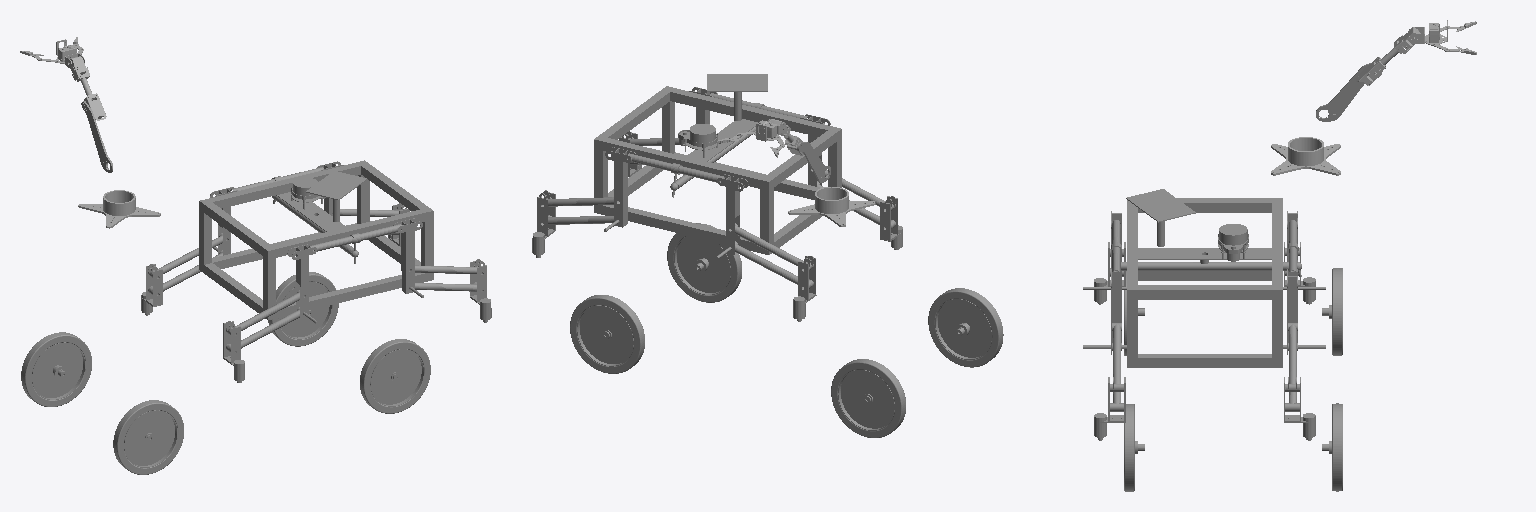
--- What the picture shows (computed from the rendered views, not written in the file) ---
3 views of the same robot in one strip: view 1: azimuth 30°, elevation 25°; view 2: azimuth 150°, elevation 25°; view 3: azimuth 270°, elevation 25° (orthographic).
Robot: agribot_testing_3 — 17 links, 16 joints (10 continuous, 6 fixed); root link base_link; default pose: all joints at 0.
Links seen in each view (by area): view 1: base_link, wheel_attachment_v5_1, wheel_attachment_v5_2, wheel_attachment_v3_1, wheel_attachment_v5_3, base_arm_v2_1, camera_mount_v1_1, link_3_v2_1, link_2_v1_1, ydlidar_x4_v1_1; view 2: base_link, wheel_attachment_v5_3, wheel_attachment_v3_1, wheel_attachment_v5_2, wheel_attachment_v5_1, base_arm_v2_1, camera_mount_v1_1, ydlidar_x4_v1_1, link_2_v1_1; view 3: base_link, base_arm_v2_1, camera_mount_v1_1, wheel_attachment_v5_2, wheel_attachment_v5_3, wheel_attachment_v5_1, ydlidar_x4_v1_1, link_3_v2_1, link_2_v1_1.
Boxes of the visible links, x1=… form: base_link: x1=141, y1=160, x2=491, y2=382; wheel_attachment_v5_1: x1=360, y1=339, x2=430, y2=413; wheel_attachment_v5_2: x1=21, y1=332, x2=91, y2=406; wheel_attachment_v3_1: x1=113, y1=400, x2=183, y2=474; wheel_attachment_v5_3: x1=268, y1=272, x2=338, y2=346; base_arm_v2_1: x1=78, y1=190, x2=160, y2=228; camera_mount_v1_1: x1=306, y1=171, x2=366, y2=221; link_3_v2_1: x1=69, y1=56, x2=106, y2=120; link_2_v1_1: x1=81, y1=101, x2=112, y2=172; ydlidar_x4_v1_1: x1=291, y1=177, x2=325, y2=209; base_link: x1=532, y1=86, x2=902, y2=321; wheel_attachment_v5_3: x1=570, y1=295, x2=644, y2=373; wheel_attachment_v3_1: x1=928, y1=288, x2=1003, y2=367; wheel_attachment_v5_2: x1=831, y1=359, x2=905, y2=437; wheel_attachment_v5_1: x1=667, y1=223, x2=741, y2=302; base_arm_v2_1: x1=788, y1=187, x2=875, y2=226; camera_mount_v1_1: x1=707, y1=74, x2=767, y2=120; ydlidar_x4_v1_1: x1=678, y1=124, x2=717, y2=157; link_2_v1_1: x1=797, y1=142, x2=830, y2=182; base_link: x1=1083, y1=198, x2=1325, y2=440; base_arm_v2_1: x1=1271, y1=137, x2=1340, y2=175; camera_mount_v1_1: x1=1126, y1=189, x2=1195, y2=246; wheel_attachment_v5_2: x1=1322, y1=268, x2=1342, y2=355; wheel_attachment_v5_3: x1=1322, y1=403, x2=1342, y2=491; wheel_attachment_v5_1: x1=1124, y1=404, x2=1144, y2=491; ydlidar_x4_v1_1: x1=1218, y1=224, x2=1248, y2=261; link_3_v2_1: x1=1356, y1=27, x2=1420, y2=85; link_2_v1_1: x1=1316, y1=63, x2=1370, y2=121.
Size in the robot's own frame: 1.1 by 0.9074 by 0.9141 metres.
13 mesh visuals loaded from 15 distinct referenced files (13 binary STL); not drawn: 2 (reference not matched to a file when rendering).

URDF robot description (agribot_testing_3):
<?xml version="1.0" ?>
<!-- =================================================================================== -->
<!-- |    This document was autogenerated by xacro from [local-path]/agribot_ws/src/Agribot_V2/agribot_testing_3_description/urdf/agribot_testing_3.xacro | -->
<!-- |    EDITING THIS FILE BY HAND IS NOT RECOMMENDED                                 | -->
<!-- =================================================================================== -->
<robot name="agribot_testing_3">
    <material name="silver_default">
        <color rgba="0.700 0.700 0.700 1.000" />
    </material>
    <material name="steel_satin">
        <color rgba="0.6274509803921569 0.6274509803921569 0.6274509803921569 1.0" />
    </material>
    <material name="opaque636363">
        <color rgba="0.25098039215686274 0.25098039215686274 0.25098039215686274 1.0" />
    </material>
    <transmission name="back_right_tran">
        <type>transmission_interface/SimpleTransmission</type>
        <joint name="back_right">
            <hardwareInterface>hardware_interface/EffortJointInterface</hardwareInterface>
        </joint>
        <actuator name="back_right_actr">
            <hardwareInterface>hardware_interface/EffortJointInterface</hardwareInterface>
            <mechanicalReduction>1</mechanicalReduction>
        </actuator>
    </transmission>
    <transmission name="front_right_tran">
        <type>transmission_interface/SimpleTransmission</type>
        <joint name="front_right">
            <hardwareInterface>hardware_interface/EffortJointInterface</hardwareInterface>
        </joint>
        <actuator name="front_right_actr">
            <hardwareInterface>hardware_interface/EffortJointInterface</hardwareInterface>
            <mechanicalReduction>1</mechanicalReduction>
        </actuator>
    </transmission>
    <transmission name="back_left_tran">
        <type>transmission_interface/SimpleTransmission</type>
        <joint name="back_left">
            <hardwareInterface>hardware_interface/EffortJointInterface</hardwareInterface>
        </joint>
        <actuator name="back_left_actr">
            <hardwareInterface>hardware_interface/EffortJointInterface</hardwareInterface>
            <mechanicalReduction>1</mechanicalReduction>
        </actuator>
    </transmission>
    <transmission name="front_left_tran">
        <type>transmission_interface/SimpleTransmission</type>
        <joint name="front_left">
            <hardwareInterface>hardware_interface/EffortJointInterface</hardwareInterface>
        </joint>
        <actuator name="front_left_actr">
            <hardwareInterface>hardware_interface/EffortJointInterface</hardwareInterface>
            <mechanicalReduction>1</mechanicalReduction>
        </actuator>
    </transmission>
    <transmission name="base_twist_tran">
        <type>transmission_interface/SimpleTransmission</type>
        <joint name="base_twist">
            <hardwareInterface>hardware_interface/PositionJointInterface</hardwareInterface>
        </joint>
        <actuator name="base_twist_actr">
            <hardwareInterface>hardware_interface/PositionJointInterface</hardwareInterface>
            <mechanicalReduction>1</mechanicalReduction>
        </actuator>
    </transmission>
    <transmission name="shoulder_tran">
        <type>transmission_interface/SimpleTransmission</type>
        <joint name="shoulder">
            <hardwareInterface>hardware_interface/PositionJointInterface</hardwareInterface>
        </joint>
        <actuator name="shoulder_actr">
            <hardwareInterface>hardware_interface/PositionJointInterface</hardwareInterface>
            <mechanicalReduction>1</mechanicalReduction>
        </actuator>
    </transmission>
    <transmission name="elbow_tran">
        <type>transmission_interface/SimpleTransmission</type>
        <joint name="elbow">
            <hardwareInterface>hardware_interface/PositionJointInterface</hardwareInterface>
        </joint>
        <actuator name="elbow_actr">
            <hardwareInterface>hardware_interface/PositionJointInterface</hardwareInterface>
            <mechanicalReduction>1</mechanicalReduction>
        </actuator>
    </transmission>
    <transmission name="wrist_tran">
        <type>transmission_interface/SimpleTransmission</type>
        <joint name="wrist">
            <hardwareInterface>hardware_interface/PositionJointInterface</hardwareInterface>
        </joint>
        <actuator name="wrist_actr">
            <hardwareInterface>hardware_interface/PositionJointInterface</hardwareInterface>
            <mechanicalReduction>1</mechanicalReduction>
        </actuator>
    </transmission>
    <transmission name="left_grip_tran">
        <type>transmission_interface/SimpleTransmission</type>
        <joint name="left_grip">
            <hardwareInterface>hardware_interface/PositionJointInterface</hardwareInterface>
        </joint>
        <actuator name="left_grip_actr">
            <hardwareInterface>hardware_interface/PositionJointInterface</hardwareInterface>
            <mechanicalReduction>1</mechanicalReduction>
        </actuator>
    </transmission>
    <transmission name="right_grip_tran">
        <type>transmission_interface/SimpleTransmission</type>
        <joint name="right_grip">
            <hardwareInterface>hardware_interface/PositionJointInterface</hardwareInterface>
        </joint>
        <actuator name="right_grip_actr">
            <hardwareInterface>hardware_interface/PositionJointInterface</hardwareInterface>
            <mechanicalReduction>1</mechanicalReduction>
        </actuator>
    </transmission>
  
    <gazebo>
    <plugin name="control" filename="libgazebo_ros_control.so"/>
    </gazebo>

    <gazebo reference="base_link">
        <material>Gazebo/Silver</material>
        <mu1>0.2</mu1>
        <mu2>0.2</mu2>
        <selfCollide>true</selfCollide>
        <gravity>true</gravity>
    </gazebo>
    <gazebo reference="wheel_attachment_v3_1">
        <material>Gazebo/Silver</material>
        <mu1>100</mu1>
        <mu2>100</mu2>
        <selfCollide>true</selfCollide>
    </gazebo>
    <gazebo reference="wheel_attachment_v5_1">
        <material>Gazebo/Silver</material>
        <mu1>100</mu1>
        <mu2>100</mu2>
        <selfCollide>true</selfCollide>
    </gazebo>
    <gazebo reference="wheel_attachment_v5_2">
        <material>Gazebo/Silver</material>
        <mu1>100</mu1>
        <mu2>100</mu2>
        <selfCollide>true</selfCollide>
    </gazebo>
    <gazebo reference="wheel_attachment_v5_3">
        <material>Gazebo/Silver</material>
        <mu1>100</mu1>
        <mu2>100</mu2>
        <selfCollide>true</selfCollide>
    </gazebo>
    <gazebo reference="ydlidar_x4_v1_1">
        <material>Gazebo/Silver</material>
        <mu1>0.2</mu1>
        <mu2>0.2</mu2>
        <selfCollide>true</selfCollide>
    </gazebo>
    <gazebo reference="camera_mount_v1_1">
        <material>Gazebo/Silver</material>
        <mu1>0.2</mu1>
        <mu2>0.2</mu2>
        <selfCollide>true</selfCollide>
    </gazebo>
    <gazebo reference="kinectv2_v1_1">
        <material>Gazebo/Silver</material>
        <mu1>0.2</mu1>
        <mu2>0.2</mu2>
        <selfCollide>true</selfCollide>
    </gazebo>
    <gazebo reference="rgb_frame" />
    <gazebo reference="base_arm_v2_1">
        <material>Gazebo/Silver</material>
        <mu1>0.2</mu1>
        <mu2>0.2</mu2>
        <selfCollide>true</selfCollide>
    </gazebo>
    <gazebo reference="link_1_v3_1">
        <material>Gazebo/Silver</material>
        <mu1>0.2</mu1>
        <mu2>0.2</mu2>
        <selfCollide>true</selfCollide>
    </gazebo>
    <gazebo reference="link_2_v1_1">
        <material>Gazebo/Silver</material>
        <mu1>0.2</mu1>
        <mu2>0.2</mu2>
        <selfCollide>true</selfCollide>
    </gazebo>
    <gazebo reference="link_3_v2_1">
        <material>Gazebo/Silver</material>
        <mu1>0.2</mu1>
        <mu2>0.2</mu2>
        <selfCollide>true</selfCollide>
    </gazebo>
    <gazebo reference="eef_base_v1_1">
        <material>Gazebo/Silver</material>
        <mu1>0.2</mu1>
        <mu2>0.2</mu2>
        <selfCollide>true</selfCollide>
    </gazebo>
    <gazebo reference="left_claw_v3_1">
        <material>Gazebo/Silver</material>
        <mu1>0.2</mu1>
        <mu2>0.2</mu2>
        <selfCollide>true</selfCollide>
    </gazebo>
    <gazebo reference="right_claw_v3_1">
        <material>Gazebo/Silver</material>
        <mu1>0.2</mu1>
        <mu2>0.2</mu2>
        <selfCollide>true</selfCollide>
    </gazebo>
    <!-- Lidar -->
    <gazebo reference="ydlidar_x4_v1_1">
        <sensor name="head_hokuyo_sensor" type="ray">
            <pose>0 0 0 0 0 0</pose>
            <visualize>false</visualize>
            <update_rate>40</update_rate>
            <ray>
                <scan>
                    <horizontal>
                        <samples>720</samples>
                        <resolution>1</resolution>
                        <min_angle>-3.1416</min_angle>
                        <max_angle>3.1416</max_angle>
                    </horizontal>
                </scan>
                <range>
                    <min>0.10</min>
                    <max>8.0</max>
                    <resolution>0.01</resolution>
                </range>
                <noise>
                    <type>gaussian</type>
                    <!-- Noise parameters based on published spec for Hokuyo laser
              achieving "+-30mm" accuracy at range < 10m.  A mean of 0.0m and
              stddev of 0.01m will put 99.7% of samples within 0.03m of the true
              reading. -->
                    <mean>0.0</mean>
                    <stddev>0.01</stddev>
                </noise>
            </ray>
            <plugin filename="libgazebo_ros_laser.so" name="gazebo_ros_head_hokuyo_controller">
                <topicName>/scan</topicName>
                <frameName>ydlidar_x4_v1_1</frameName>
            </plugin>
        </sensor>
    </gazebo>
    <!-- Kinect -->
    <gazebo reference="rgb_frame">
        <sensor name="kinectv2_camera" type="depth">
            <update_rate>20</update_rate>
            <camera>
                <horizontal_fov>1.5708</horizontal_fov>
                <image>
                    <width>1920</width>
                    <height>1080</height>
                    <format>R8G8B8</format>
                </image>
                <clip>
                    <near>0.5</near>
                    <far>4.5</far>
                </clip>
            </camera>
            <plugin filename="libgazebo_ros_openni_kinect.so" name="kinectv2_controller">
                <baseline>0.2</baseline>
                <alwaysOn>true</alwaysOn>
                <updateRate>1.0</updateRate>
                <cameraName>kinectv2_ir</cameraName>
                <imageTopicName>/kinectv2/color/image_raw</imageTopicName>
                <cameraInfoTopicName>/kinectv2/color/camera_info</cameraInfoTopicName>
                <depthImageTopicName>/kinectv2/depth/image_raw</depthImageTopicName>
                <depthImageInfoTopicName>/kinectv2/depth/camera_info</depthImageInfoTopicName>
                <pointCloudTopicName>/kinectv2/depth/points</pointCloudTopicName>
                <frameName>optical_frame</frameName>
                <pointCloudCutoff>0.5</pointCloudCutoff>
                <pointCloudCutoffMax>4.5</pointCloudCutoffMax>

                <!-- The following are values taken from calibration matrix
                and distortion matrix of a real Xbox KinectV2 -->
                
                <distortionK1>0.0418</distortionK1>
                <distortionK2>2.4255</distortionK2>
                <distortionK3>-27.81</distortionK3>
                <distortionT1>0.004395</distortionT1>
                <distortionT2>0.0069</distortionT2>            
                <CxPrime>0</CxPrime>
                <Cx>316</Cx>
                <Cy>256</Cy>
                <focalLength>910</focalLength>
                <hackBaseline>0</hackBaseline>
            </plugin>
        </sensor>
    </gazebo>
    <!-- Skid steering -->
    <gazebo>
        <plugin filename="libgazebo_ros_skid_steer_drive.so" name="skid_steer_drive_controller">
            <updateRate>100.0</updateRate>
            <robotNamespace>/</robotNamespace>
            <leftFrontJoint>front_left</leftFrontJoint>
            <rightFrontJoint>front_right</rightFrontJoint>
            <leftRearJoint>back_left</leftRearJoint>
            <rightRearJoint>back_right</rightRearJoint>
            <wheelSeparation>0.48</wheelSeparation>
            <wheelDiameter>0.2032</wheelDiameter>
            <robotBaseFrame>base_link</robotBaseFrame>
            <torque>20</torque>
            <topicName>cmd_vel</topicName>
            <broadcastTF>true</broadcastTF>
        </plugin>
    </gazebo>
    <link name="base_link">
        <inertial>
            <origin rpy="0 0 0" xyz="-0.2350880604034247 0.06665534217761437 0.38865777567238247" />
            <mass value="33.861613005474375" />
            <inertia ixx="1.628198" ixy="-0.000154" ixz="-0.003471" iyy="2.74751" iyz="-0.001994" izz="3.065301" />
        </inertial>
        <visual>
            <origin rpy="0 0 0" xyz="0 0 0" />
            <geometry>
                <mesh filename="package://agribot_testing_3_description/meshes/base_link.stl" scale="0.001 0.001 0.001" />
            </geometry>
            <material name="steel_satin" />
        </visual>
        <collision>
            <origin rpy="0 0 0" xyz="0 0 0" />
            <geometry>
                <mesh filename="package://agribot_testing_3_description/meshes/base_link.stl" scale="0.001 0.001 0.001" />
            </geometry>
        </collision>
    </link>
    <link name="wheel_attachment_v3_1">
        <inertial>
            <origin rpy="0 0 0" xyz="3.8128879042975683e-07 -0.019174361968348846 -3.4326326046885125e-07" />
            <mass value="2.8820189071853717" />
            <inertia ixx="0.010501" ixy="0.0" ixz="0.0" iyy="0.020705" iyz="-0.0" izz="0.010501" />
        </inertial>
        <visual>
            <origin rpy="0 0 0" xyz="0.607089 0.154579 -0.098627" />
            <geometry>
                <mesh filename="package://agribot_testing_3_description/meshes/wheel_attachment_v3_1.stl" scale="0.001 0.001 0.001" />
            </geometry>
            <material name="steel_satin" />
        </visual>
        <collision>
            <origin rpy="0 0 0" xyz="0.607089 0.154579 -0.098627" />
            <geometry>
                <mesh filename="package://agribot_testing_3_description/meshes/wheel_attachment_v3_1.stl" scale="0.001 0.001 0.001" />
            </geometry>
        </collision>
    </link>
    <link name="wheel_attachment_v5_1">
        <inertial>
            <origin rpy="0 0 0" xyz="-3.348505955291792e-07 -0.019183612949765505 3.8027774791615787e-07" />
            <mass value="2.8568879657816306" />
            <inertia ixx="0.0105" ixy="0.0" ixz="-0.0" iyy="0.020703" iyz="-0.0" izz="0.0105" />
        </inertial>
        <visual>
            <origin rpy="0 0 0" xyz="-0.137665 0.154179 -0.1016" />
            <geometry>
                <mesh filename="package://agribot_testing_3_description/meshes/wheel_attachment_v5_1.stl" scale="0.001 0.001 0.001" />
            </geometry>
            <material name="steel_satin" />
        </visual>
        <collision>
            <origin rpy="0 0 0" xyz="-0.137665 0.154179 -0.1016" />
            <geometry>
                <mesh filename="package://agribot_testing_3_description/meshes/wheel_attachment_v5_1.stl" scale="0.001 0.001 0.001" />
            </geometry>
        </collision>
    </link>
    <link name="wheel_attachment_v5_2">
        <inertial>
            <origin rpy="0 0 0" xyz="-4.557887117728754e-07 0.019183971880570305 1.354506786177545e-07" />
            <mass value="2.8568879657816306" />
            <inertia ixx="0.0105" ixy="0.0" ixz="0.0" iyy="0.020703" iyz="-0.0" izz="0.0105" />
        </inertial>
        <visual>
            <origin rpy="0 0 0" xyz="0.607599 -0.287008 -0.100014" />
            <geometry>
                <mesh filename="package://agribot_testing_3_description/meshes/wheel_attachment_v5_2.stl" scale="0.001 0.001 0.001" />
            </geometry>
            <material name="steel_satin" />
        </visual>
        <collision>
            <origin rpy="0 0 0" xyz="0.607599 -0.287008 -0.100014" />
            <geometry>
                <mesh filename="package://agribot_testing_3_description/meshes/wheel_attachment_v5_2.stl" scale="0.001 0.001 0.001" />
            </geometry>
        </collision>
    </link>
    <link name="wheel_attachment_v5_3">
        <inertial>
            <origin rpy="0 0 0" xyz="3.728495583943392e-07 0.019183971880533446 -3.6545594768455647e-07" />
            <mass value="2.8568879657816306" />
            <inertia ixx="0.0105" ixy="0.0" ixz="0.0" iyy="0.020703" iyz="-0.0" izz="0.0105" />
        </inertial>
        <visual>
            <origin rpy="0 0 0" xyz="-0.137524 -0.287008 -0.101575" />
            <geometry>
                <mesh filename="package://agribot_testing_3_description/meshes/wheel_attachment_v5_3.stl" scale="0.001 0.001 0.001" />
            </geometry>
            <material name="steel_satin" />
        </visual>
        <collision>
            <origin rpy="0 0 0" xyz="-0.137524 -0.287008 -0.101575" />
            <geometry>
                <mesh filename="package://agribot_testing_3_description/meshes/wheel_attachment_v5_3.stl" scale="0.001 0.001 0.001" />
            </geometry>
        </collision>
    </link>
    <link name="ydlidar_x4_v1_1">
        <inertial>
            <origin rpy="0 0 0" xyz="-0.0017058707003289857 -3.2053459074476987e-07 0.020201312343200217" />
            <mass value="1.1515616542314233" />
            <inertia ixx="0.000489" ixy="0.0" ixz="0.000148" iyy="0.000861" iyz="0.0" izz="0.000987" />
        </inertial>
        <visual>
            <origin rpy="0 0 0" xyz="-0.014827 -0.066215 -0.583412" />
            <geometry>
                <mesh filename="package://agribot_testing_3_description/meshes/ydlidar_x4_v1_1.stl" scale="0.001 0.001 0.001" />
            </geometry>
            <material name="steel_satin" />
        </visual>
        <collision>
            <origin rpy="0 0 0" xyz="-0.014827 -0.066215 -0.553412" />
            <geometry>
                <mesh filename="package://agribot_testing_3_description/meshes/ydlidar_x4_v1_1.stl" scale="0.001 0.001 0.001" />
            </geometry>
        </collision>
    </link>
    <link name="camera_mount_v1_1">
        <inertial>
            <origin rpy="0 0 0" xyz="0.012500029729347837 -0.012500320534587814 0.07788741036522173" />
            <mass value="0.5409900233067988" />
            <inertia ixx="0.000886" ixy="-0.000133" ixz="0.0" iyy="0.00104" iyz="-0.0" izz="0.00081" />
        </inertial>
        <visual>
            <origin rpy="0 0 0" xyz="0.010173 0.088785 -0.553412" />
            <geometry>
                <mesh filename="package://agribot_testing_3_description/meshes/camera_mount_v1_1.stl" scale="0.001 0.001 0.001" />
            </geometry>
            <material name="steel_satin" />
        </visual>
        <collision>
            <origin rpy="0 0 0" xyz="0.010173 0.088785 -0.553412" />
            <geometry>
                <mesh filename="package://agribot_testing_3_description/meshes/camera_mount_v1_1.stl" scale="0.001 0.001 0.001" />
            </geometry>
        </collision>
    </link>
    <link name="kinectv2_v1_1">
        <inertial>
            <origin rpy="0 0 0" xyz="0.00021058727276470398 -0.0026916010606874013 0.03831447720534975" />
            <mass value="0.7810524514781609" />
            <inertia ixx="0.001383" ixy="-0.001402" ixz="-1.1e-05" iyy="0.002954" iyz="2.1e-05" izz="0.003916" />
        </inertial>
        <visual>
            <origin rpy="0 0 0" xyz="-0.002327 0.101285 -0.655912" />
            <geometry>
                <mesh filename="package://agribot_testing_3_description/meshes/kinectv2_v1_1.stl" scale="0.001 0.001 0.001" />
            </geometry>
            <material name="silver_default" />
        </visual>
        <collision>
            <origin rpy="0 0 0" xyz="-0.002327 0.101285 -0.655912" />
            <geometry>
                <mesh filename="package://agribot_testing_3_description/meshes/kinectv2_v1_1.stl" scale="0.001 0.001 0.001" />
            </geometry>
        </collision>
    </link>
    <link name="rgb_frame" />
    <joint name="kinect_rgb_frame" type="fixed">
        <parent link="kinectv2_v1_1" />
        <child link="rgb_frame" />
        <origin rpy="0 0 2.0944" xyz="0.075 0.075 0.0375" />
        <axis xyz="0 0 0" />
    </joint>
    <link name="optical_frame" />
    <joint name="rgb_optical_frame" type="fixed">
        <parent link="rgb_frame" />
        <child link="optical_frame" />
        <origin rpy="-1.5708 0 -1.5708" xyz="0 0 0" />
        <axis xyz="0 0 0" />
    </joint>
    <link name="base_arm_v2_1">
        <inertial>
            <origin rpy="0 0 0" xyz="2.972936491429934e-08 0.01249967946542388 0.010307514282643426" />
            <mass value="0.9330886709339293" />
            <inertia ixx="0.001421" ixy="-0.0" ixz="0.0" iyy="0.001421" iyz="0.0" izz="0.002578" />
        </inertial>
        <visual>
            <origin rpy="0 0 0" xyz="0.460173 -0.221215 -0.553412" />
            <geometry>
                <mesh filename="package://agribot_testing_3_description/meshes/base_arm_v2_1.stl" scale="0.001 0.001 0.001" />
            </geometry>
            <material name="silver_default" />
        </visual>
        <collision>
            <origin rpy="0 0 0" xyz="0.460173 -0.221215 -0.553412" />
            <geometry>
                <mesh filename="package://agribot_testing_3_description/meshes/base_arm_v2_1.stl" scale="0.001 0.001 0.001" />
            </geometry>
        </collision>
    </link>
    <link name="link_1_v3_1">
        <inertial>
            <origin rpy="0 0 0" xyz="-0.003271917210980857 0.004456357998369992 0.025593960333273547" />
            <mass value="1.6613467153005188" />
            <inertia ixx="0.002663" ixy="-2.2e-05" ixz="0.000339" iyy="0.002483" iyz="-0.000454" izz="0.002146" />
        </inertial>
        <visual>
            <origin rpy="0 0 0" xyz="0.460173 -0.233715 -0.594412" />
            <geometry>
                <mesh filename="package://agribot_testing_3_description/meshes/link_1_v3_1.stl" scale="0.001 0.001 0.001" />
            </geometry>
            <material name="opaque636363" />
        </visual>
        <collision>
            <origin rpy="0 0 0" xyz="0.460173 -0.233715 -0.594412" />
            <geometry>
                <mesh filename="package://agribot_testing_3_description/meshes/link_1_v3_1.stl" scale="0.001 0.001 0.001" />
            </geometry>
        </collision>
    </link>
    <link name="link_2_v1_1">
        <inertial>
            <origin rpy="0 0 0" xyz="0.0004995698471453314 0.05852714517882551 0.055084304746622736" />
            <mass value="0.2532575834482899" />
            <inertia ixx="0.000795" ixy="-0.0" ixz="0.0" iyy="0.000454" iyz="-0.000362" izz="0.000342" />
        </inertial>
        <visual>
            <origin rpy="0 0 0" xyz="0.468884 -0.274766 -0.669152" />
            <geometry>
                <mesh filename="package://agribot_testing_3_description/meshes/link_2_v1_1.stl" scale="0.001 0.001 0.001" />
            </geometry>
            <material name="steel_satin" />
        </visual>
        <collision>
            <origin rpy="0 0 0" xyz="0.468884 -0.274766 -0.669152" />
            <geometry>
                <mesh filename="package://agribot_testing_3_description/meshes/link_2_v1_1.stl" scale="0.001 0.001 0.001" />
            </geometry>
        </collision>
    </link>
    <link name="link_3_v2_1">
        <inertial>
            <origin rpy="0 0 0" xyz="0.018953081069860656 0.03419477091099454 0.0360750742629391" />
            <mass value="0.6682248227150334" />
            <inertia ixx="0.002549" ixy="-6e-06" ixz="-7e-06" iyy="0.001313" iyz="-0.001236" izz="0.001356" />
        </inertial>
        <visual>
            <origin rpy="0 0 0" xyz="0.465884 -0.394167 -0.788553" />
            <geometry>
                <mesh filename="package://agribot_testing_3_description/meshes/link_3_v2_1.stl" scale="0.001 0.001 0.001" />
            </geometry>
            <material name="silver_default" />
        </visual>
        <collision>
            <origin rpy="0 0 0" xyz="0.465884 -0.394167 -0.788553" />
            <geometry>
                <mesh filename="package://agribot_testing_3_description/meshes/link_3_v2_1.stl" scale="0.001 0.001 0.001" />
            </geometry>
        </collision>
    </link>
    <link name="eef_base_v1_1">
        <inertial>
            <origin rpy="0 0 0" xyz="-0.018914256538726526 0.04318633349010392 0.004331187030702122" />
            <mass value="0.33153308863416847" />
            <inertia ixx="9.1e-05" ixy="-0.0" ixz="-1e-06" iyy="9.2e-05" iyz="-5e-06" izz="0.000121" />
        </inertial>
        <visual>
            <origin rpy="0 0 0" xyz="0.427784 -0.484622 -0.879008" />
            <geometry>
                <mesh filename="package://agribot_testing_3_description/meshes/eef_base_v1_1.stl" scale="0.001 0.001 0.001" />
            </geometry>
            <material name="silver_default" />
        </visual>
        <collision>
            <origin rpy="0 0 0" xyz="0.427784 -0.484622 -0.879008" />
            <geometry>
                <mesh filename="package://agribot_testing_3_description/meshes/eef_base_v1_1.stl" scale="0.001 0.001 0.001" />
            </geometry>
        </collision>
    </link>
    <link name="left_claw_v3_1">
        <inertial>
            <origin rpy="0 0 0" xyz="-0.03162572015420595 0.056519004177445153 0.0008015719343230643" />
            <mass value="0.02736131598910003" />
            <inertia ixx="2.2e-05" ixy="9e-06" ixz="0.0" iyy="5e-06" iyz="-0.0" izz="2.7e-05" />
        </inertial>
        <visual>
            <origin rpy="0 0 0" xyz="0.478294 -0.529558 -0.869551" />
            <geometry>
                <mesh filename="package://agribot_testing_3_description/meshes/left_claw_v3_1.stl" scale="0.001 0.001 0.001" />
            </geometry>
            <material name="silver_default" />
        </visual>
        <collision>
            <origin rpy="0 0 0" xyz="0.478294 -0.529558 -0.869551" />
            <geometry>
                <mesh filename="package://agribot_testing_3_description/meshes/left_claw_v3_1.stl" scale="0.001 0.001 0.001" />
            </geometry>
        </collision>
    </link>
    <link name="right_claw_v3_1">
        <inertial>
            <origin rpy="0 0 0" xyz="0.03162000829220274 0.05652386513823637 0.0008015719343187344" />
            <mass value="0.027361315989100486" />
            <inertia ixx="2.2e-05" ixy="-9e-06" ixz="-0.0" iyy="5e-06" iyz="-0.0" izz="2.7e-05" />
        </inertial>
        <visual>
            <origin rpy="0 0 0" xyz="0.415294 -0.529558 -0.869551" />
            <geometry>
                <mesh filename="package://agribot_testing_3_description/meshes/right_claw_v3_1.stl" scale="0.001 0.001 0.001" />
            </geometry>
            <material name="silver_default" />
        </visual>
        <collision>
            <origin rpy="0 0 0" xyz="0.415294 -0.529558 -0.869551" />
            <geometry>
                <mesh filename="package://agribot_testing_3_description/meshes/right_claw_v3_1.stl" scale="0.001 0.001 0.001" />
            </geometry>
        </collision>
    </link>
    <joint name="back_right" type="continuous">
        <origin rpy="0 0 0" xyz="-0.607089 -0.154579 0.098627" />
        <parent link="base_link" />
        <child link="wheel_attachment_v3_1" />
        <axis xyz="-0.0 1.0 0.0" />
    </joint>
    <joint name="front_right" type="continuous">
        <origin rpy="0 0 0" xyz="0.137665 -0.154179 0.1016" />
        <parent link="base_link" />
        <child link="wheel_attachment_v5_1" />
        <axis xyz="-0.0 1.0 0.0" />
    </joint>
    <joint name="back_left" type="continuous">
        <origin rpy="0 0 0" xyz="-0.607599 0.287008 0.100014" />
        <parent link="base_link" />
        <child link="wheel_attachment_v5_2" />
        <axis xyz="0.0 1.0 -0.0" />
    </joint>
    <joint name="front_left" type="continuous">
        <origin rpy="0 0 0" xyz="0.137524 0.287008 0.101575" />
        <parent link="base_link" />
        <child link="wheel_attachment_v5_3" />
        <axis xyz="0.0 1.0 -0.0" />
    </joint>
    <joint name="Rigid 8" type="fixed">
        <origin rpy="0 0 0" xyz="0.014827 0.066215 0.583412" />
        <parent link="base_link" />
        <child link="ydlidar_x4_v1_1" />
    </joint>
    <joint name="Rigid 9" type="fixed">
        <origin rpy="0 0 0" xyz="-0.010173 -0.088785 0.553412" />
        <parent link="base_link" />
        <child link="camera_mount_v1_1" />
    </joint>
    <joint name="Rigid 10" type="fixed">
        <origin rpy="0 0 0" xyz="0.0125 -0.0125 0.1025" />
        <parent link="camera_mount_v1_1" />
        <child link="kinectv2_v1_1" />
    </joint>
    <joint name="Rigid 11" type="fixed">
        <origin rpy="0 0 0" xyz="-0.460173 0.221215 0.553412" />
        <parent link="base_link" />
        <child link="base_arm_v2_1" />
    </joint>
    <joint name="base_twist" type="continuous">
        <origin rpy="0 0 0" xyz="0.0 0.0125 0.041" />
        <parent link="base_arm_v2_1" />
        <child link="link_1_v3_1" />
        <axis xyz="0.0 -0.0 -1.0" />
    </joint>
    <joint name="shoulder" type="continuous">
        <origin rpy="0 0 0" xyz="-0.008711 0.041051 0.07474" />
        <parent link="link_1_v3_1" />
        <child link="link_2_v1_1" />
        <axis xyz="1.0 0.0 -0.0" />
    </joint>
    <joint name="elbow" type="continuous">
        <origin rpy="0 0 0" xyz="0.003 0.119401 0.119401" />
        <parent link="link_2_v1_1" />
        <child link="link_3_v2_1" />
        <axis xyz="1.0 0.0 0.0" />
    </joint>
    <joint name="wrist" type="continuous">
        <origin rpy="0 0 0" xyz="0.0381 0.090455 0.090455" />
        <parent link="link_3_v2_1" />
        <child link="eef_base_v1_1" />
        <axis xyz="1.0 0.0 0.0" />
    </joint>
    <joint name="left_grip" type="continuous">
        <origin rpy="0 0 0" xyz="-0.05051 0.044936 -0.009457" />
        <parent link="eef_base_v1_1" />
        <child link="left_claw_v3_1" />
        <axis xyz="0.0 0.0 1.0" />
    </joint>
    <joint name="right_grip" type="continuous">
        <origin rpy="0 0 0" xyz="0.01249 0.044936 -0.009457" />
        <parent link="eef_base_v1_1" />
        <child link="right_claw_v3_1" />
        <axis xyz="0.0 0.0 1.0" />
    </joint>
</robot>
